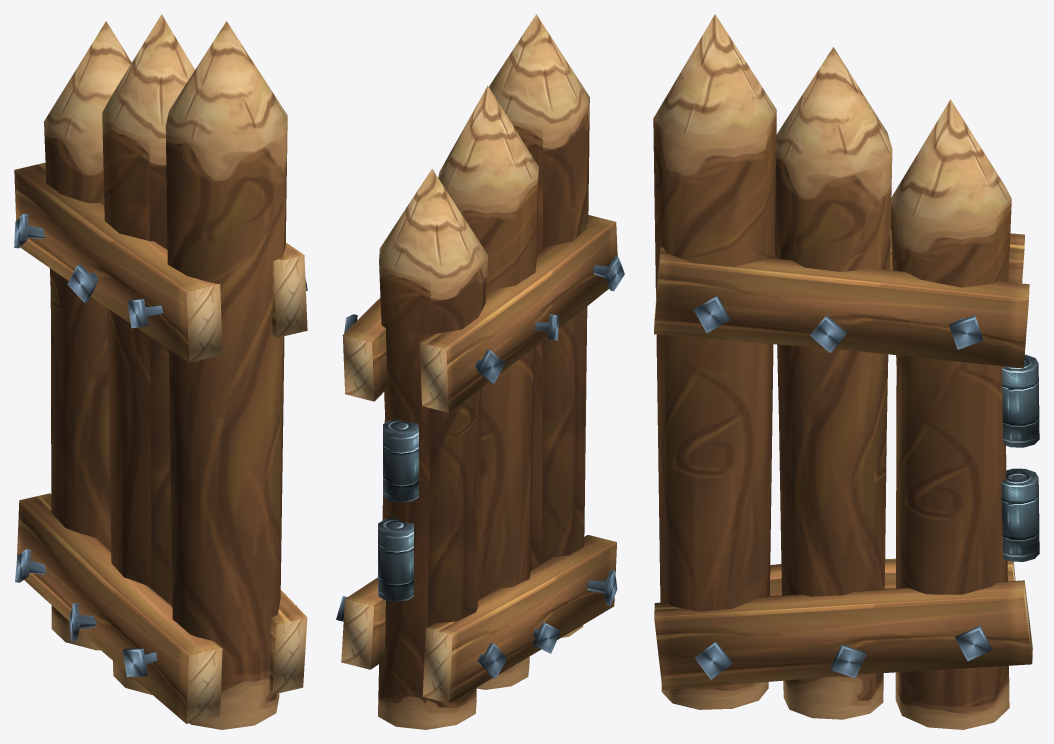
Rendered from gates_right_01.fbx.
3 views of the same model, side by side, from view 1: azimuth 30°, elevation 25°; view 2: azimuth 150°, elevation 25°; view 3: azimuth 270°, elevation 25° (orthographic). The views are drawn at different scales.
Parts seen in each view (by area): view 1: gates_right_01; view 2: gates_right_01; view 3: gates_right_01.
Part boxes in pixels (left/top/right/bottom): gates_right_01: left=14, top=14, right=307, bottom=729; gates_right_01: left=336, top=14, right=624, bottom=729; gates_right_01: left=653, top=14, right=1039, bottom=729.
Size of the model in its own units: 2.57 by 9.49 by 4.81.
